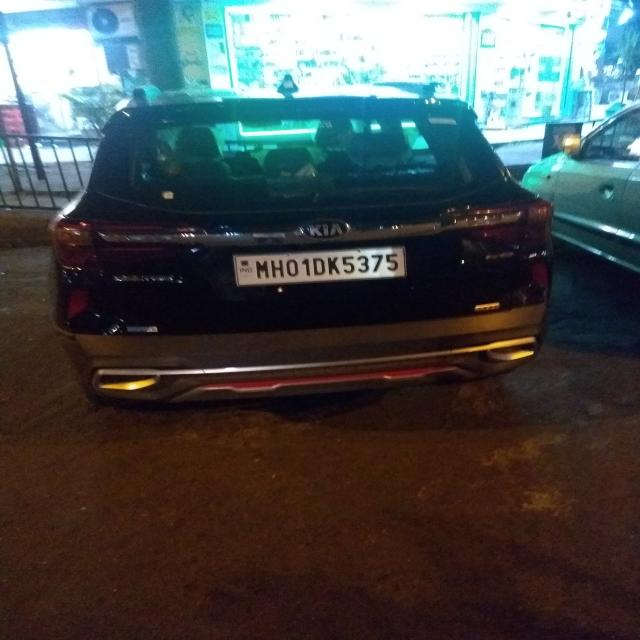Number-Plate: (234, 248, 405, 281)
